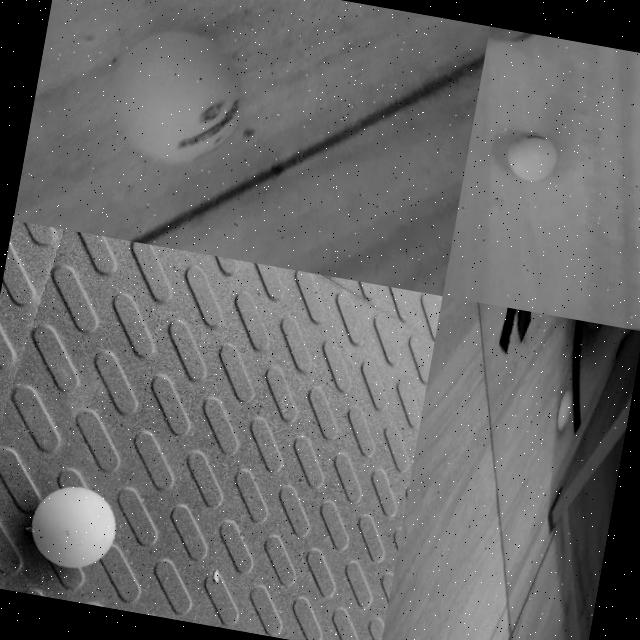ping-pong-ball: (100, 19, 250, 169), (25, 479, 122, 574), (505, 130, 560, 182), (556, 388, 574, 430)
